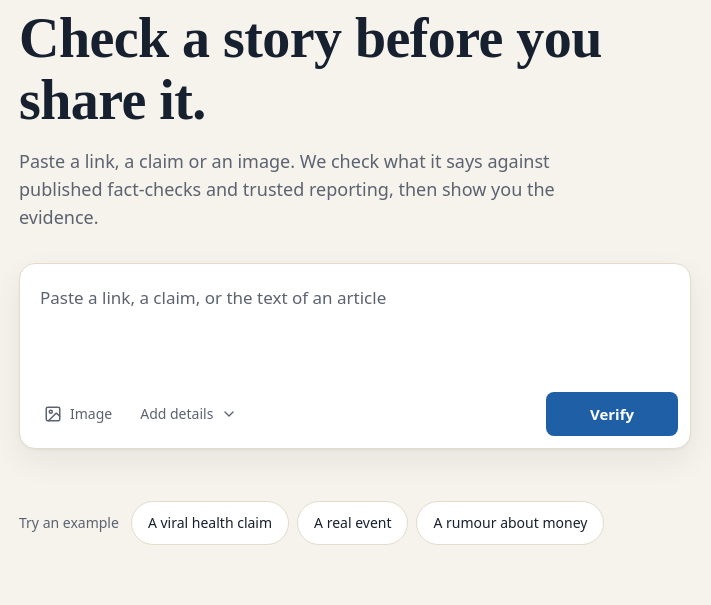
Test: the desk › does not ask for a source link when the thing being checked is already a link
Click the button "Add details" at (189, 414), box [128,392,249,436]
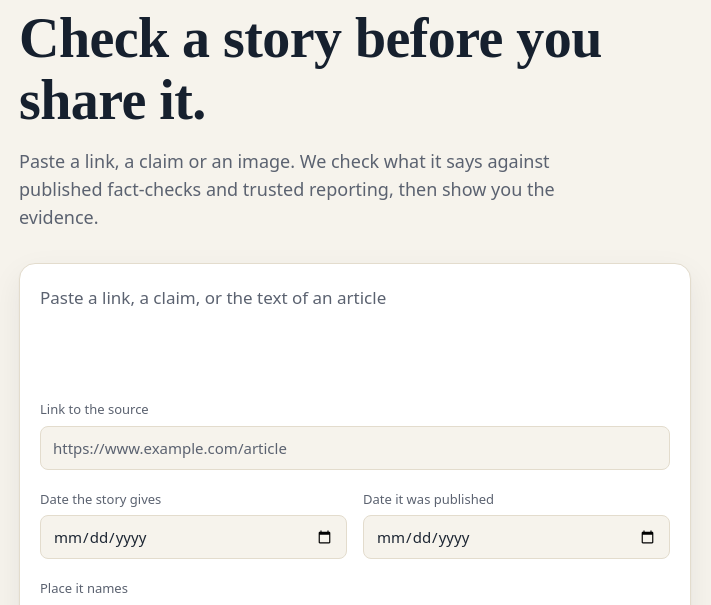
Type "https://example.com/a" into the text box labelled "Paste a link, a claim, or the text of an article" at (355, 326), box [20,264,690,388]
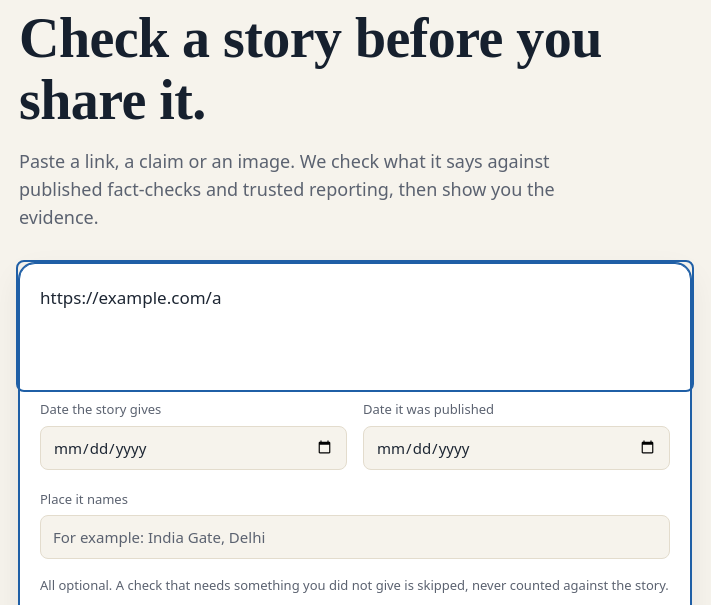
Check: the text labelled "Link to the source" is gone
